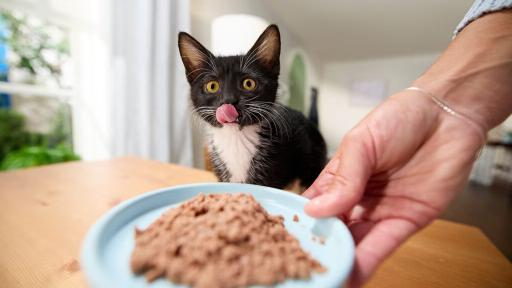cat_eating: (82, 26, 354, 288), (139, 220, 230, 270)
